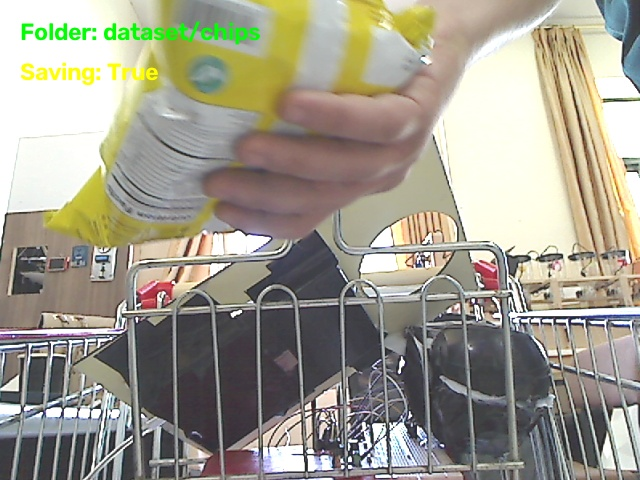chips: (46, 0, 433, 245)
